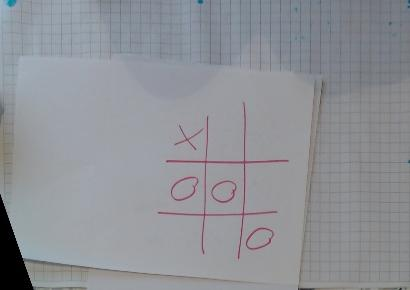O: (168, 175, 200, 203), (244, 225, 276, 253), (209, 178, 239, 206)
X: (172, 124, 203, 150)
grid: (156, 113, 288, 261)
